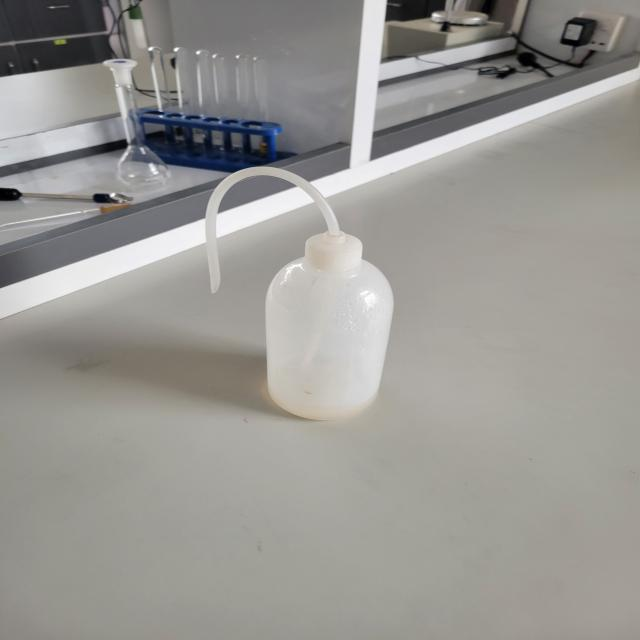Wash_Bottle: (182, 138, 420, 460)
